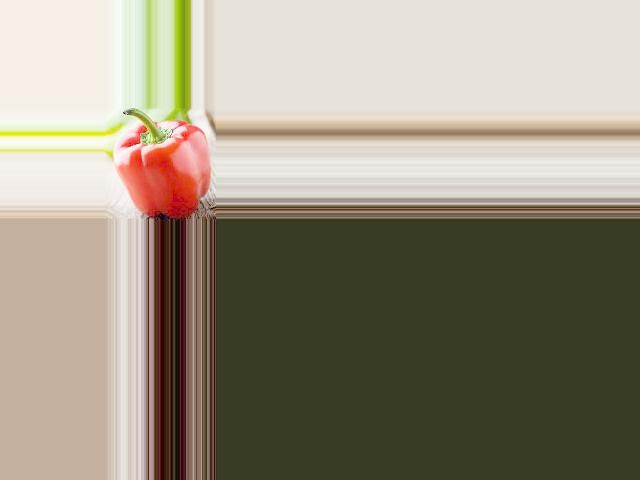bell_pepper: (111, 110, 208, 220)
